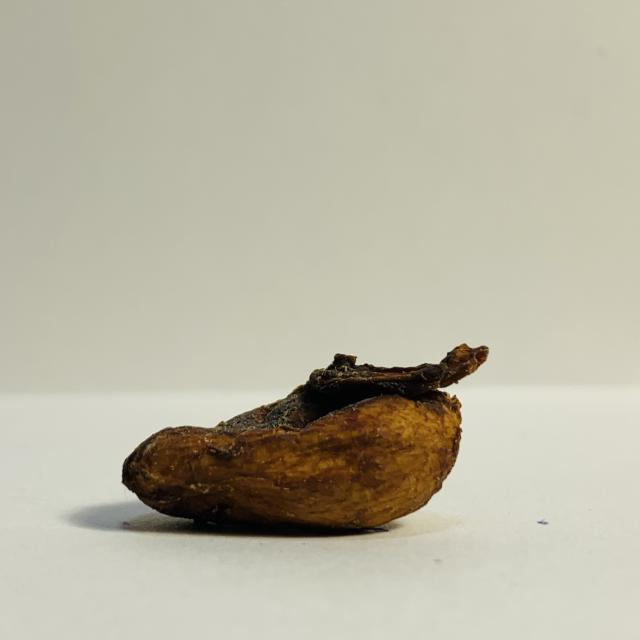Agglomerated_cocoabeans: (29, 316, 592, 587)
